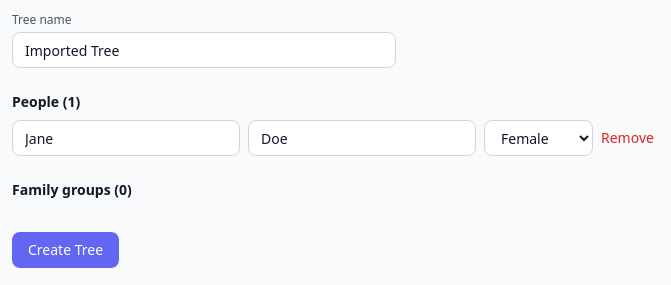
Test: AiTreeImportPanel › shows the editable draft once the job is ready and finalizes it
This screenshot has width=671, height=285.
Check: the 2nd field showing "Jane" is shown, box [12,120,240,156]
Click the button "Create Tree": (66, 250) [12,232,119,268]
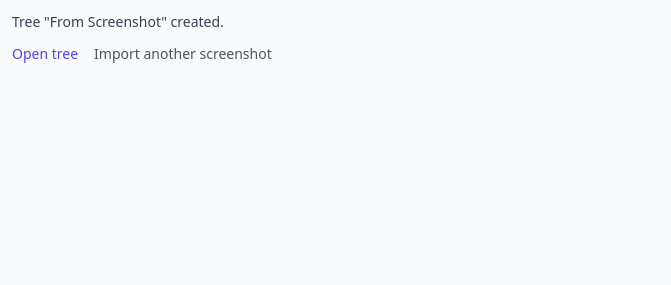
Check: the text "Tree \"From Screenshot\" created." is shown, box [12,12,224,31]
